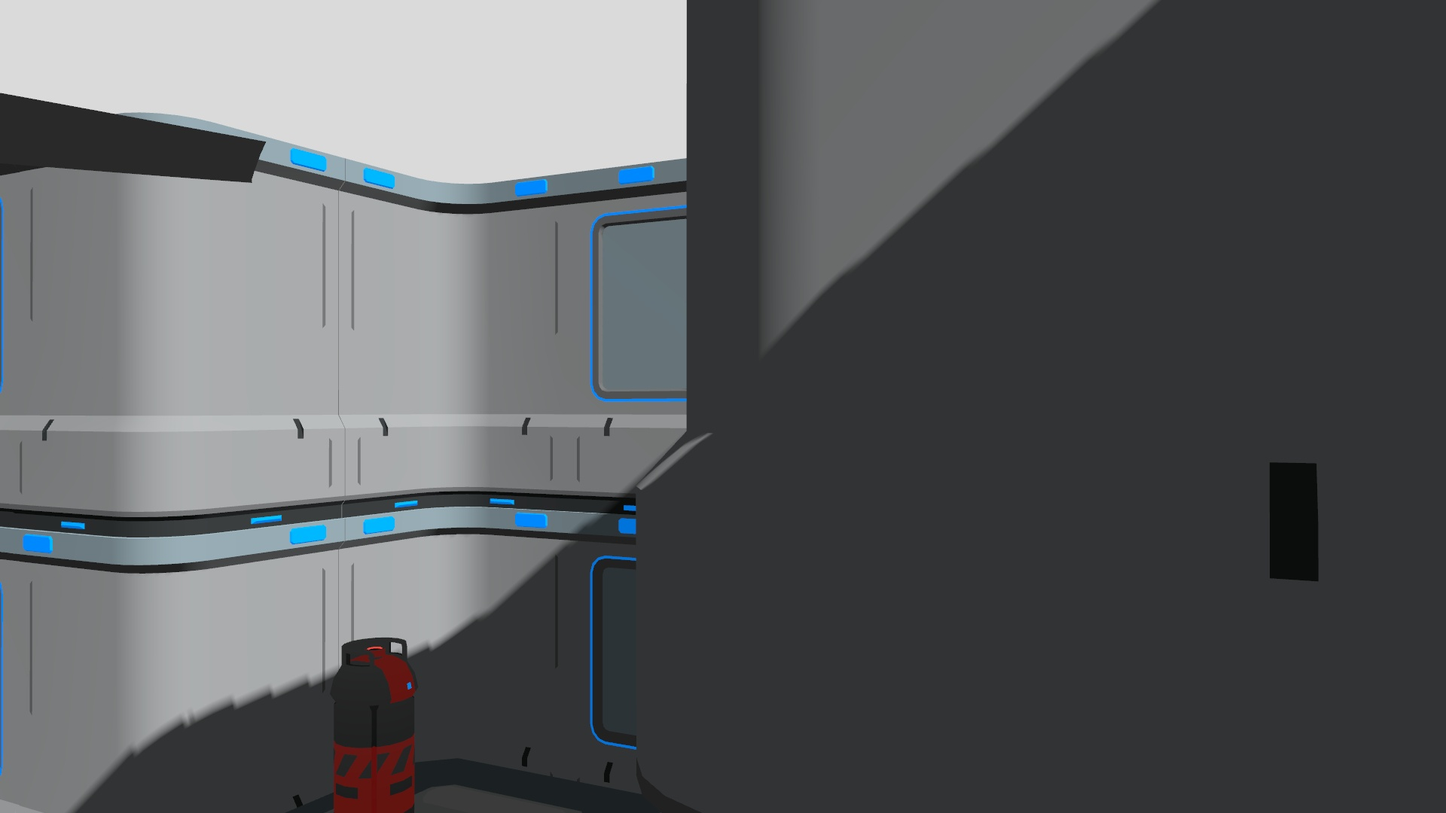red_barrel: (329, 632, 423, 813)
